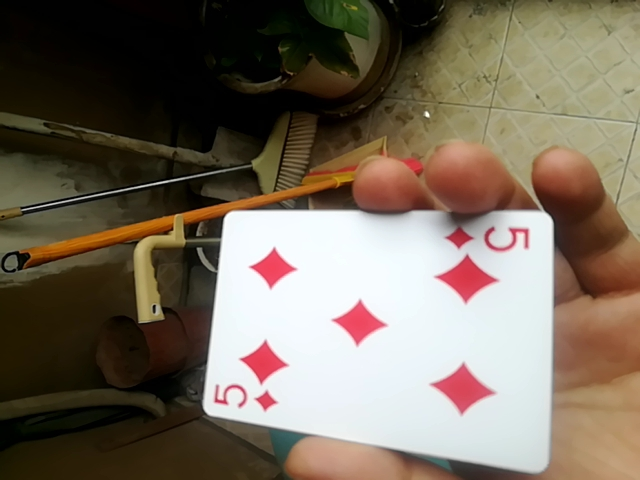fk 5: (191, 197, 562, 472)
